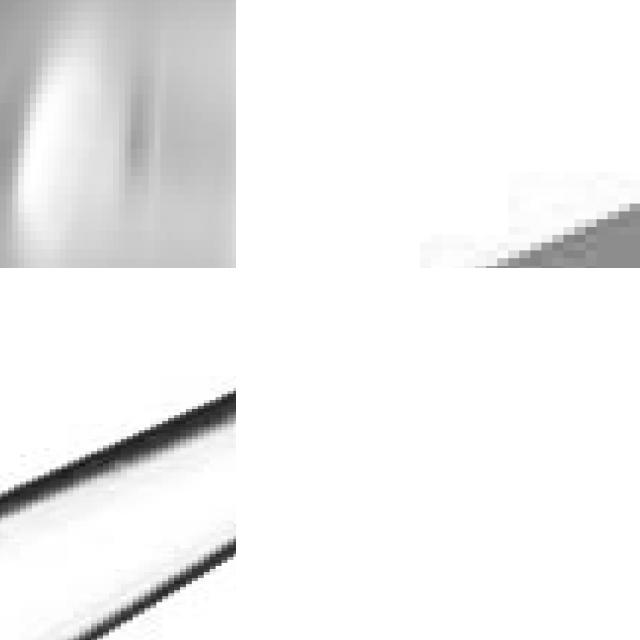spoons: (0, 0, 236, 268)
